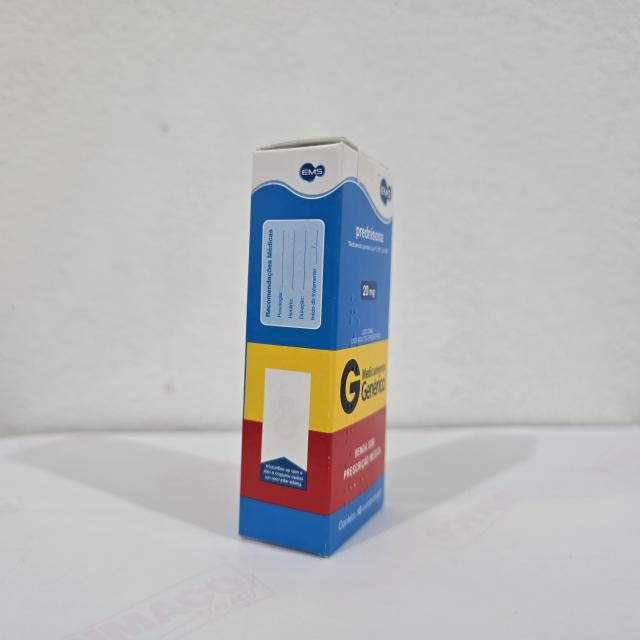prednisona: (233, 133, 399, 562)
